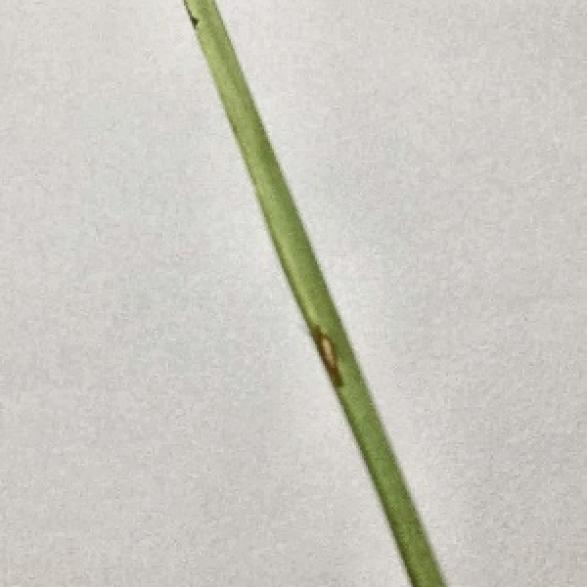Leaf_smut: (309, 315, 352, 393)
